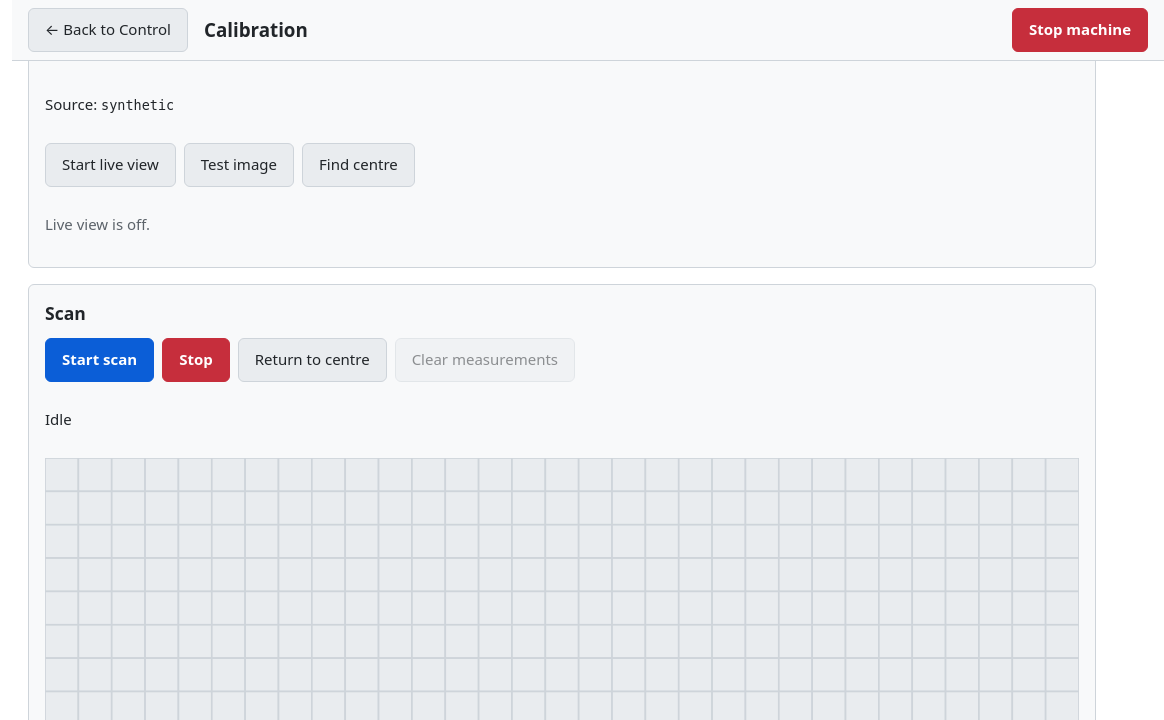
Scenario: optical scan › shows why a scan could not start
(page scrolled)
Step 1. Click the button "Start scan" → point(100, 360), box [45,338,154,382]
(page scrolled)
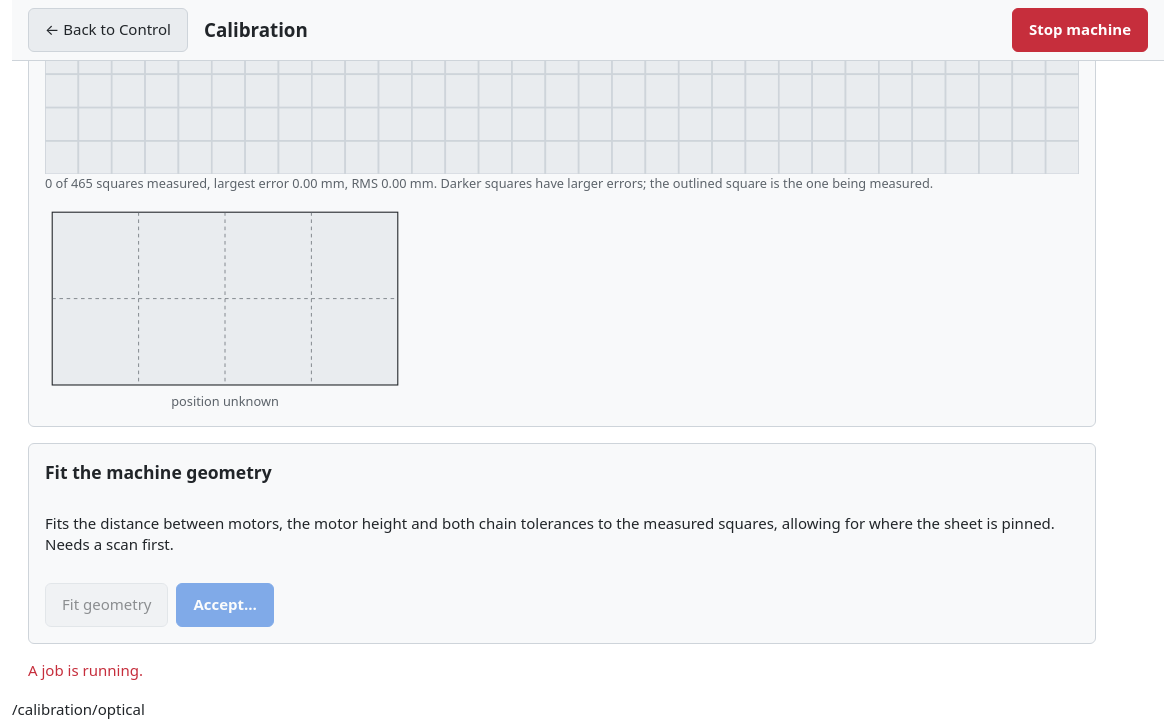
Check: the message named "Calibration status" reads "A job is running.", box [28,660,143,680]
